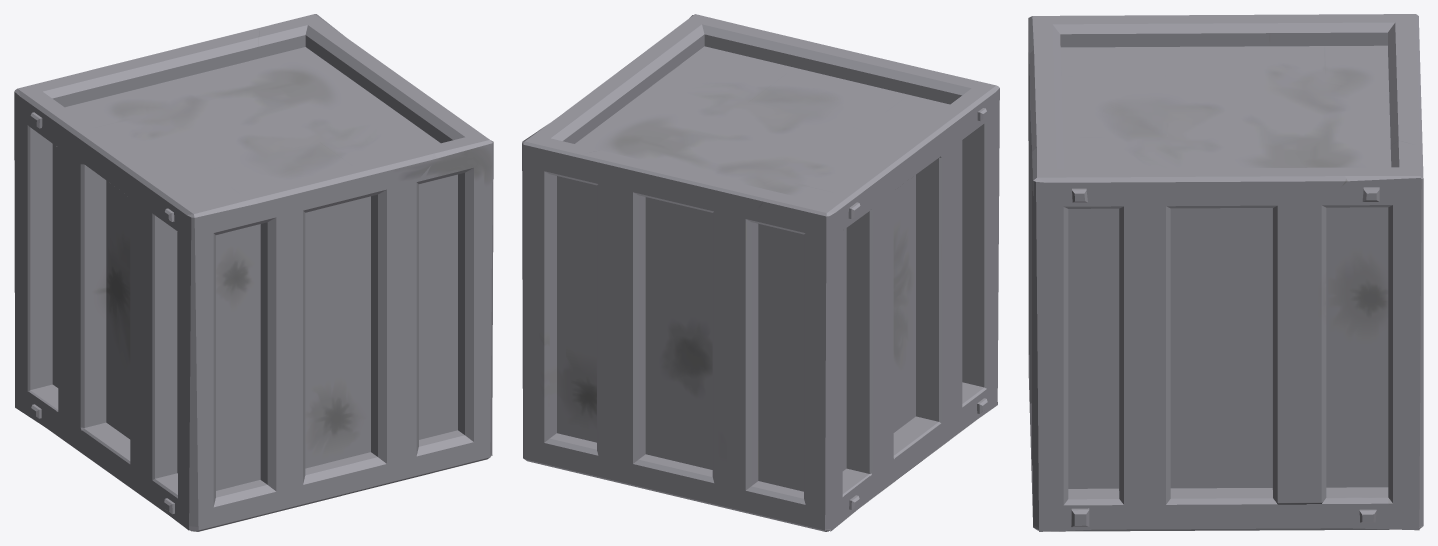
The model's file is Crate(IMPROVED).fbx.
The picture shows the model from 3 angles, left to right: view 1: azimuth 30°, elevation 25°; view 2: azimuth 150°, elevation 25°; view 3: azimuth 270°, elevation 25°; orthographic projection. The views are drawn at different scales.
Parts seen in each view (by area): view 1: Cube; view 2: Cube; view 3: Cube.
Part boxes in pixels (left/top/right/bottom): Cube: left=14, top=14, right=493, bottom=531; Cube: left=522, top=14, right=999, bottom=531; Cube: left=1028, top=14, right=1423, bottom=531.
Bounding box in the file's own units: 209 × 200 × 202.
Materials: 1 (1 with a texture image).
